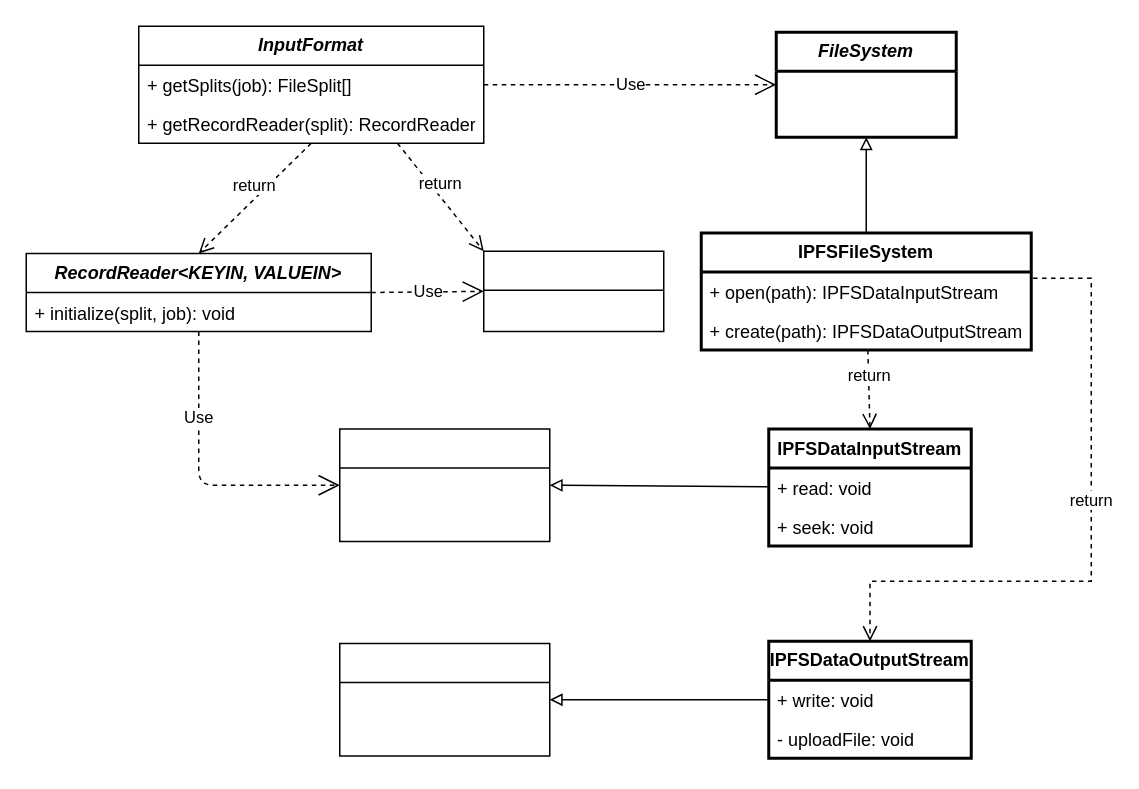
This 1139x789 diagram has some shape labels left out. The shapes that lost their labels are listed below. From the top down, each one's centre as x and y in pixels, then its label:
At (x=573, y=291): "FileSplit".
At (x=444, y=485): "InputStream".
At (x=444, y=699): "OutputStream".
